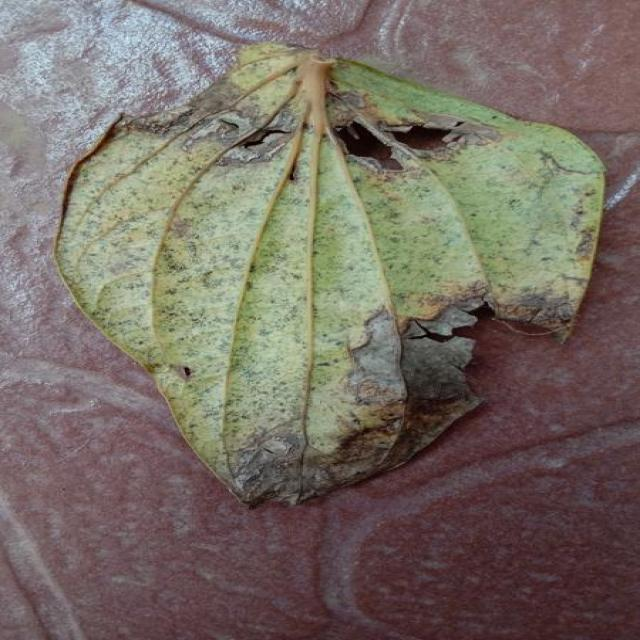disease in leaf: (57, 44, 605, 504)
